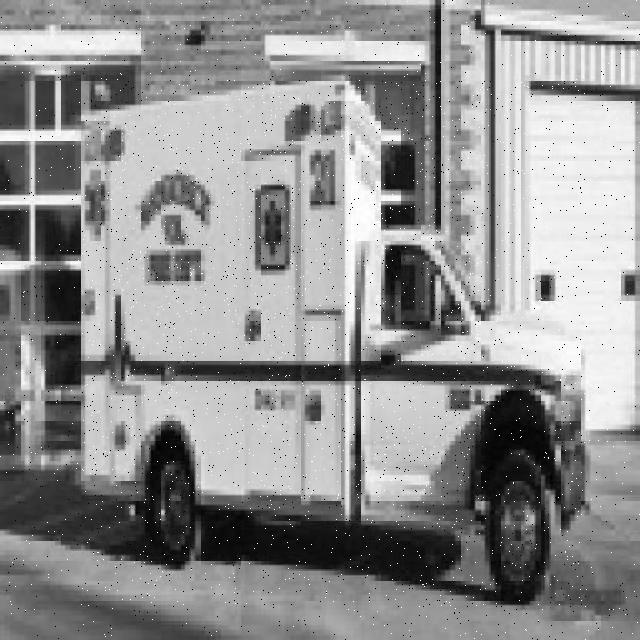Ambulance: (82, 81, 588, 607)
